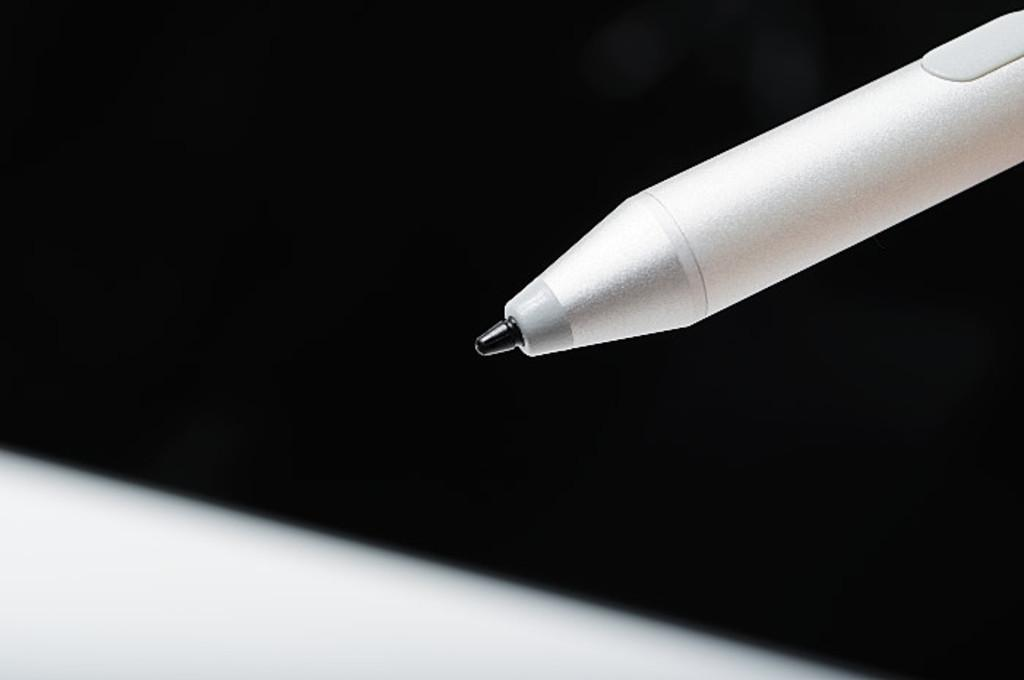pen: (468, 9, 1023, 367)
